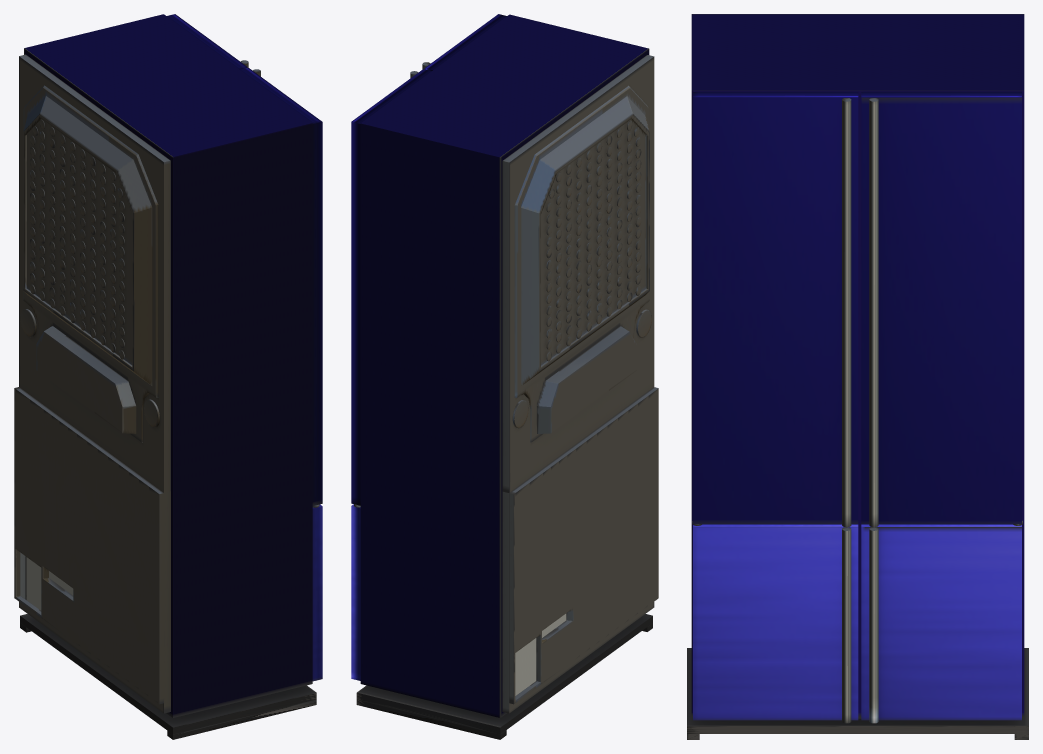
Rendered from fridge_blue.glb.
3 views of the same model, side by side, from view 1: azimuth 30°, elevation 25°; view 2: azimuth 150°, elevation 25°; view 3: azimuth 270°, elevation 25° (orthographic). The views are drawn at different scales.
Visible parts, largest first — view 1: back_body, back_body5, back_body7, base, back_body1, back_body2, back_body3; view 2: back_body, back_body5, back_body7, base, back_body3, back_body4, back_body1; view 3: back_body1, back_body3, back_body, back_body2, back_body4, base, pCylinder1, pCylinder3, pCylinder2, pCylinder4.
Part boxes in pixels (bbox=[...]): back_body: bbox=[24, 14, 312, 717]; back_body5: bbox=[14, 54, 170, 713]; back_body7: bbox=[23, 85, 158, 442]; base: bbox=[20, 614, 316, 739]; back_body1: bbox=[240, 67, 322, 505]; back_body2: bbox=[312, 504, 322, 681]; back_body3: bbox=[167, 14, 247, 69]; back_body: bbox=[360, 14, 649, 717]; back_body5: bbox=[502, 55, 658, 713]; back_body7: bbox=[514, 85, 649, 442]; base: bbox=[356, 614, 652, 739]; back_body3: bbox=[351, 69, 431, 505]; back_body4: bbox=[351, 504, 360, 680]; back_body1: bbox=[424, 14, 506, 70]; back_body1: bbox=[693, 92, 858, 524]; back_body3: bbox=[861, 92, 1021, 524]; back_body: bbox=[691, 14, 1024, 716]; back_body2: bbox=[693, 524, 858, 720]; back_body4: bbox=[861, 524, 1021, 720]; base: bbox=[687, 648, 1028, 739]; pCylinder1: bbox=[842, 98, 851, 527]; pCylinder3: bbox=[869, 98, 878, 527]; pCylinder2: bbox=[842, 527, 851, 723]; pCylinder4: bbox=[869, 527, 878, 723].
Size of the model in its own units: 1.84 by 5.76 by 2.75.
1 material, 1 textured.
